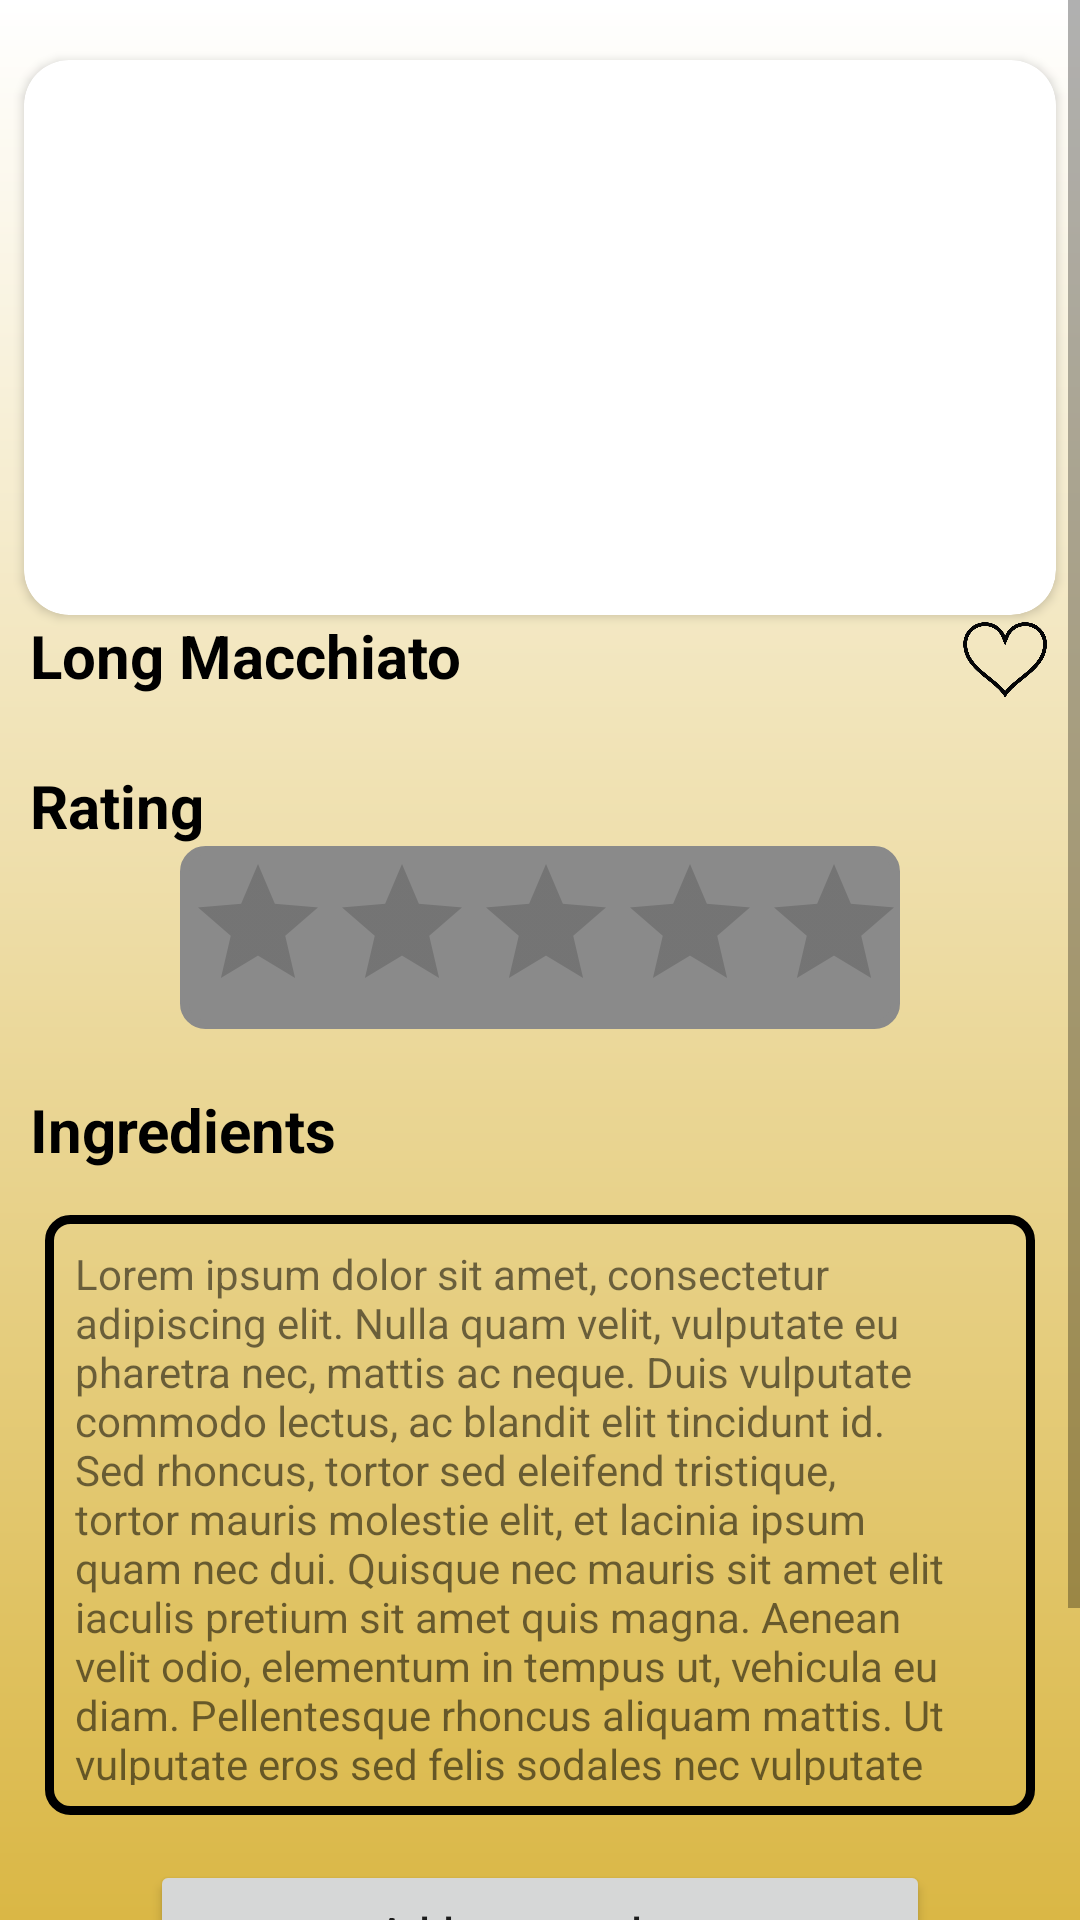

Icon click points for this 1080px x 1920px phone screenshot, format (x,y):
fav false: (1005,659)
